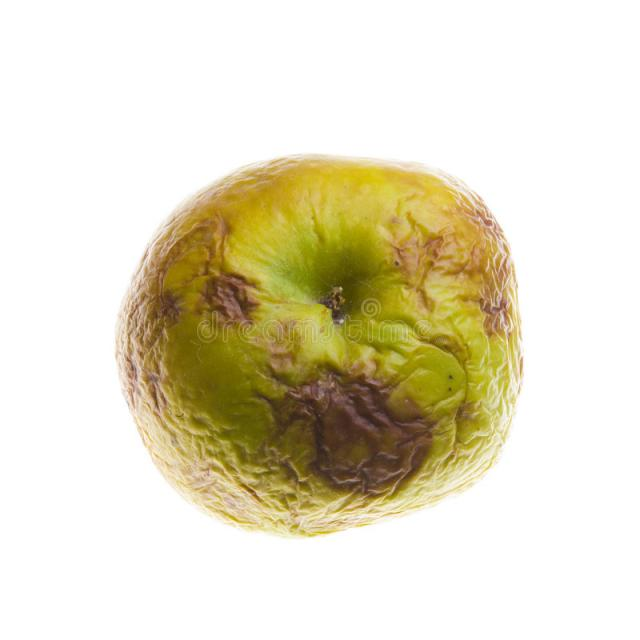Rotten: (132, 154, 502, 514)
